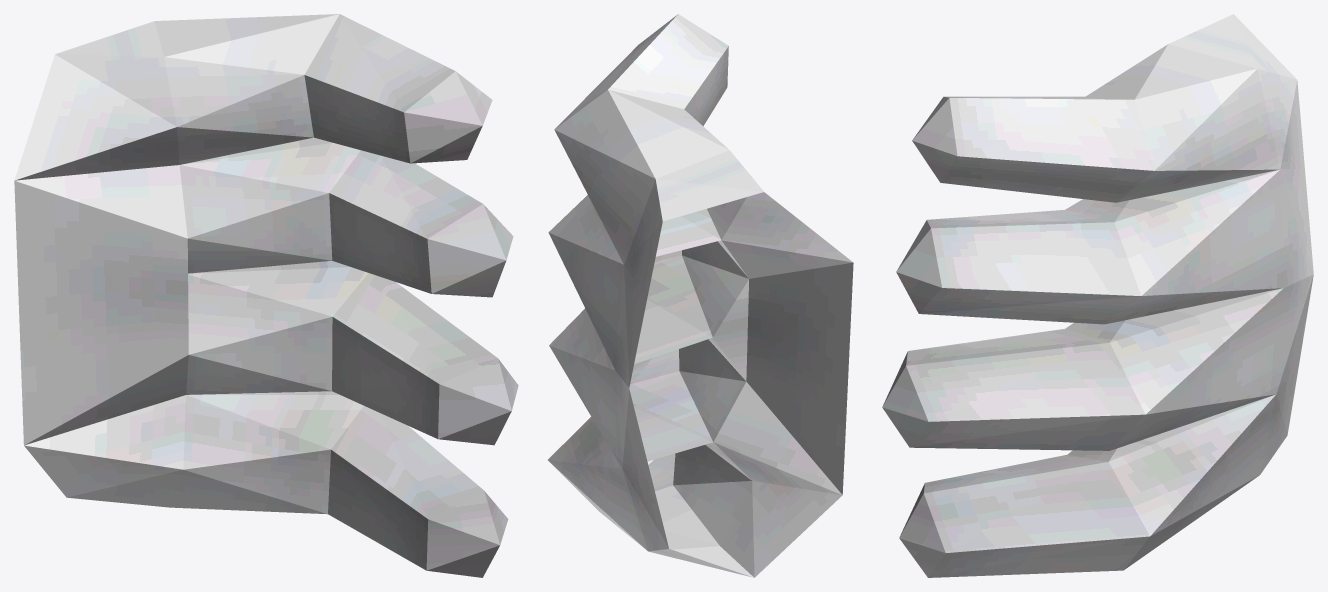
3 renders of one model, left to right at view 1: azimuth 30°, elevation 25°; view 2: azimuth 150°, elevation 25°; view 3: azimuth 270°, elevation 25°, orthographic. The views are drawn at different scales.
Visible parts, largest first — view 1: mesh_9247046CC39AEB2F; view 2: mesh_9247046CC39AEB2F; view 3: mesh_9247046CC39AEB2F.
Boxes of the visible parts, <box> form: mesh_9247046CC39AEB2F: <box>14,14,518,577</box>; mesh_9247046CC39AEB2F: <box>548,14,853,577</box>; mesh_9247046CC39AEB2F: <box>882,14,1313,577</box>.
Size of the model in its own units: 1.13 by 1.44 by 1.19.
